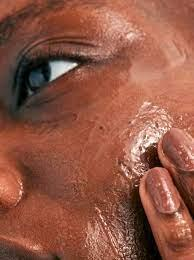Oily-Skin: (113, 3, 178, 71)
